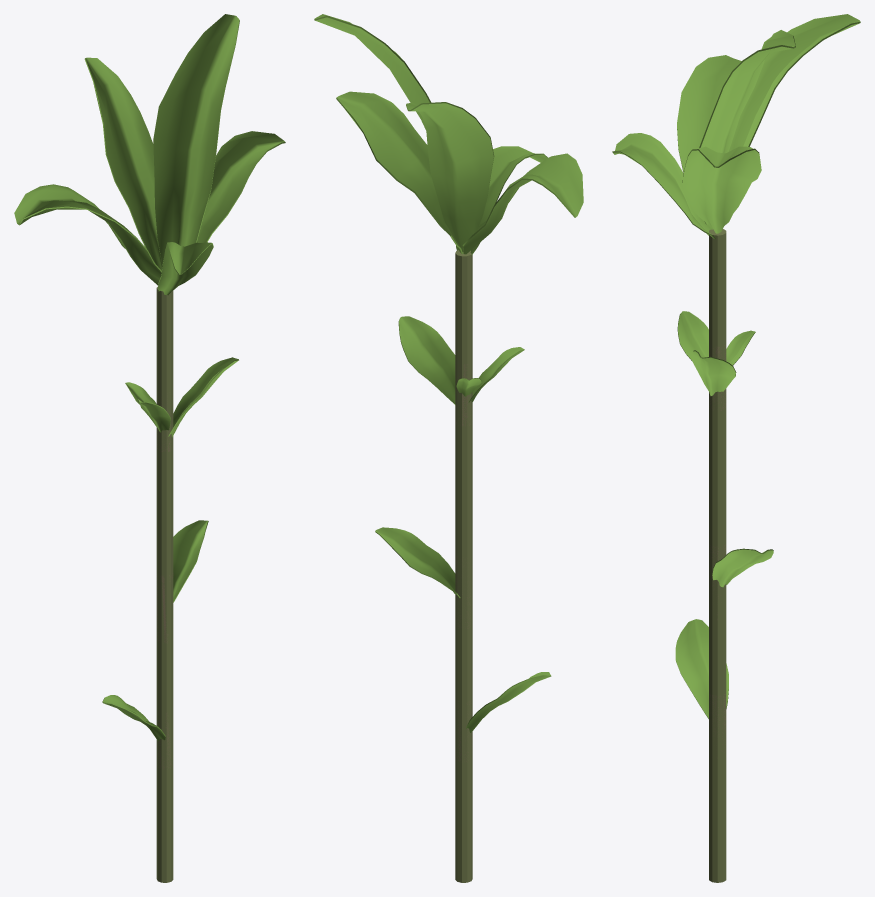
Rendered from sugarcane_st2.fbx.
3 renders of one model, left to right at view 1: azimuth 30°, elevation 25°; view 2: azimuth 150°, elevation 25°; view 3: azimuth 270°, elevation 25°, orthographic. The views are drawn at different scales.
Visible parts, largest first — view 1: sugarcane10; view 2: sugarcane10; view 3: sugarcane10.
Boxes of the visible parts, x1,y1,x2,y2 form: sugarcane10: (14,14,285,882); sugarcane10: (314,14,583,882); sugarcane10: (612,14,860,882).
Size of the model in its own units: 1.77 by 5.59 by 1.41.
